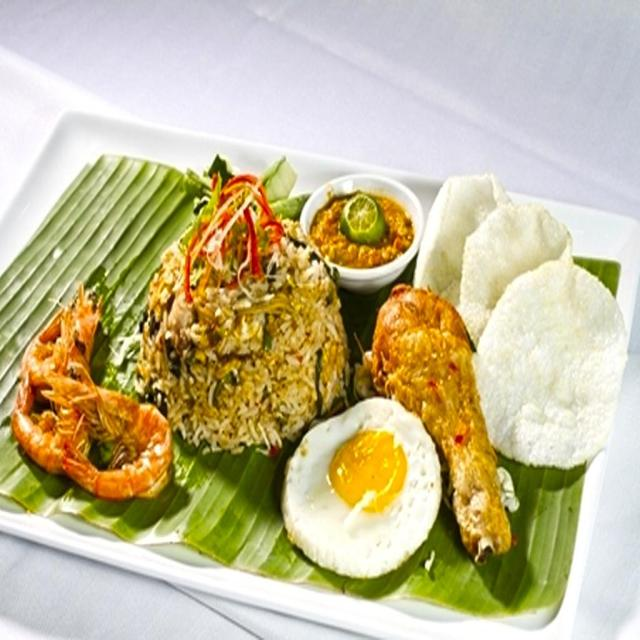Nasi Goreng: (145, 217, 345, 449)
